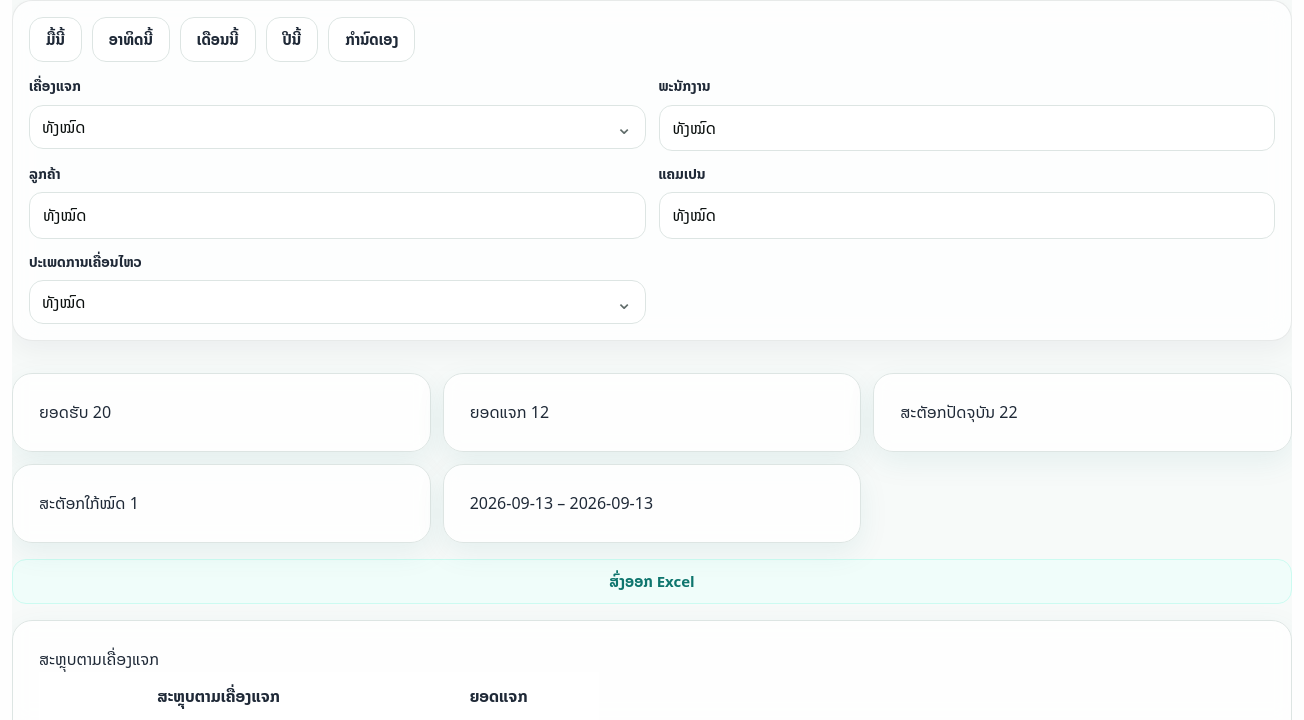
Scenario: GiftReportPanel › queries Today and Laos Monday-Sunday presets inside the actor branch scope
Click the button "ອາທິດນີ້" at (131, 40), box [92,17,170,62]
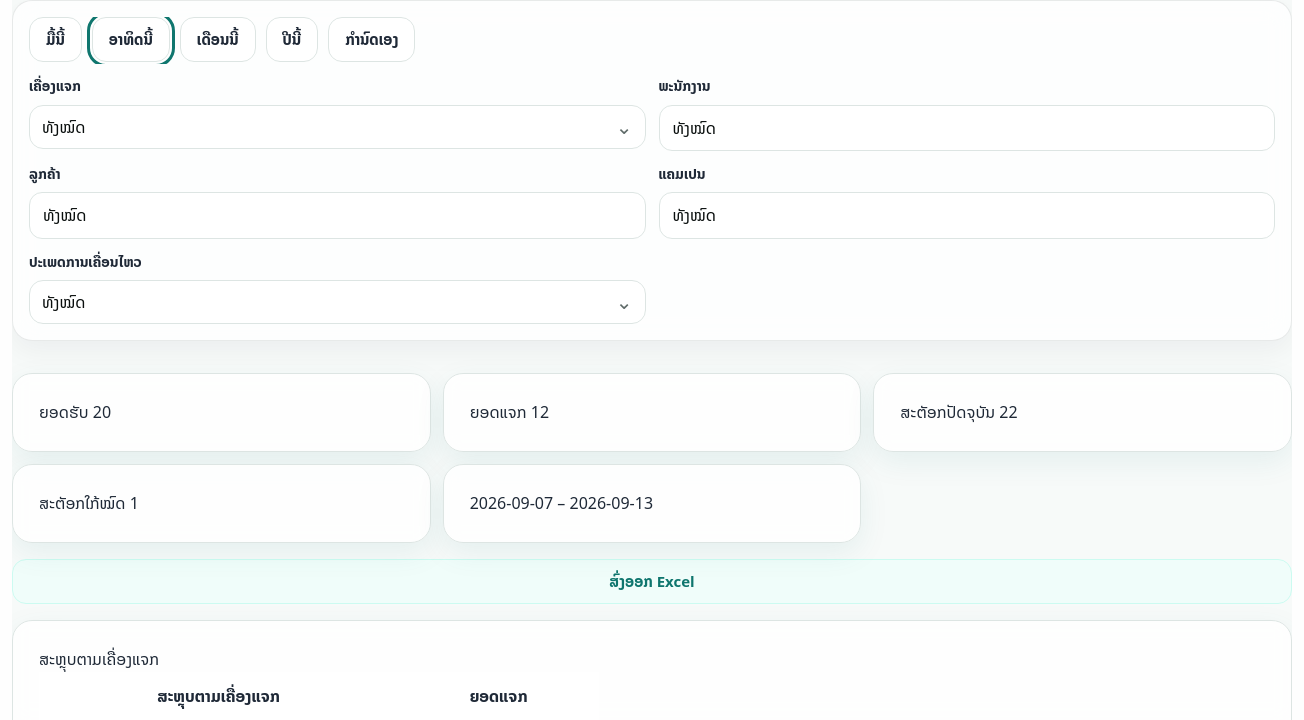
Expected: the text "2026-09-07 – 2026-09-13" is shown, [470,490,653,516]
